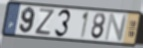1: (80, 11, 92, 41)
3: (52, 9, 72, 39)
8: (90, 12, 107, 41)
9: (18, 6, 36, 35)
N: (104, 13, 129, 42)
Z: (33, 7, 56, 37)
